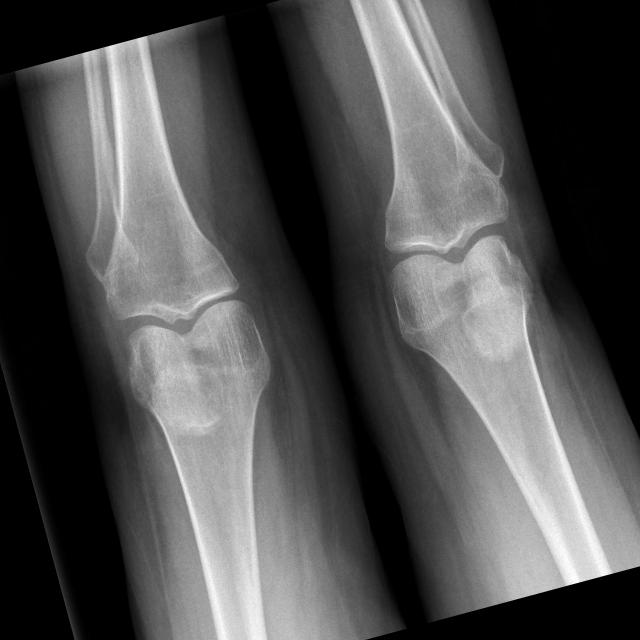Knee: (95, 228, 275, 406), (364, 162, 540, 330)
